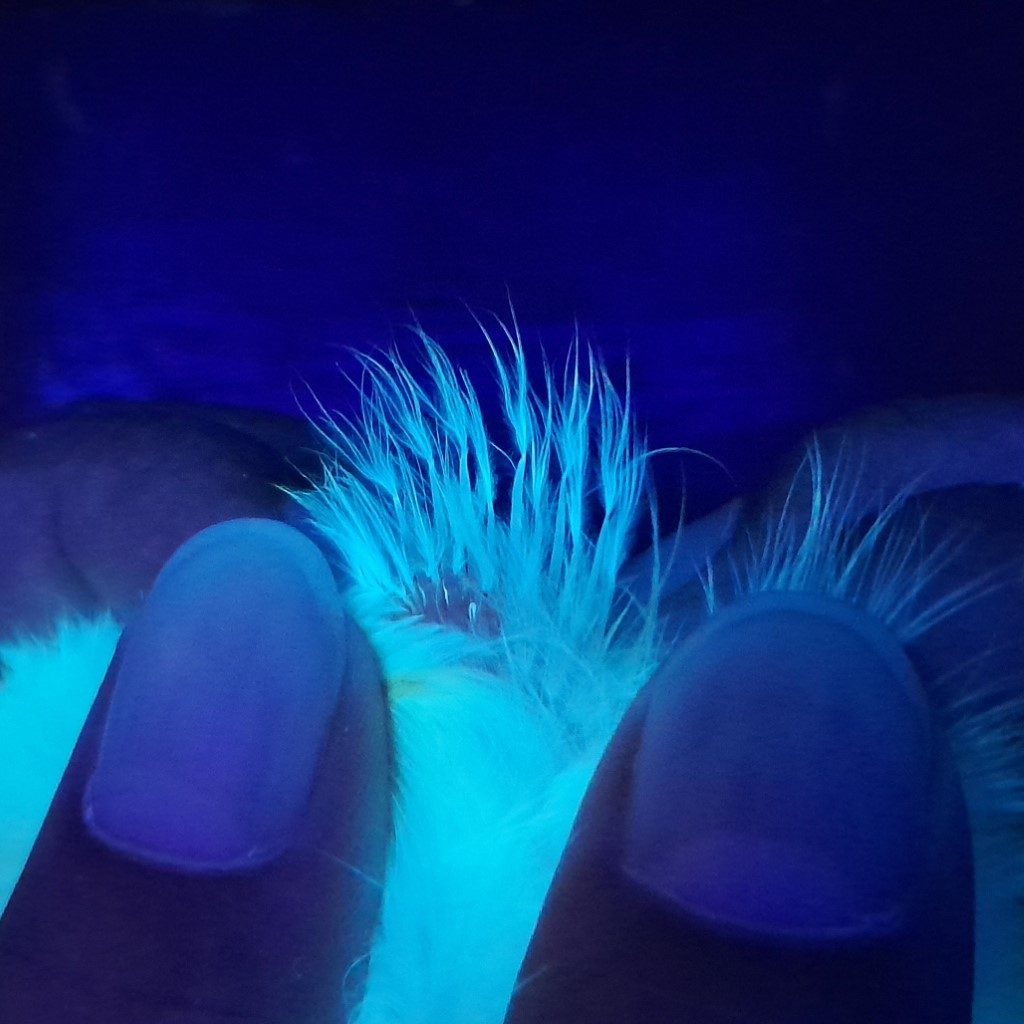male: (362, 439, 642, 729)
